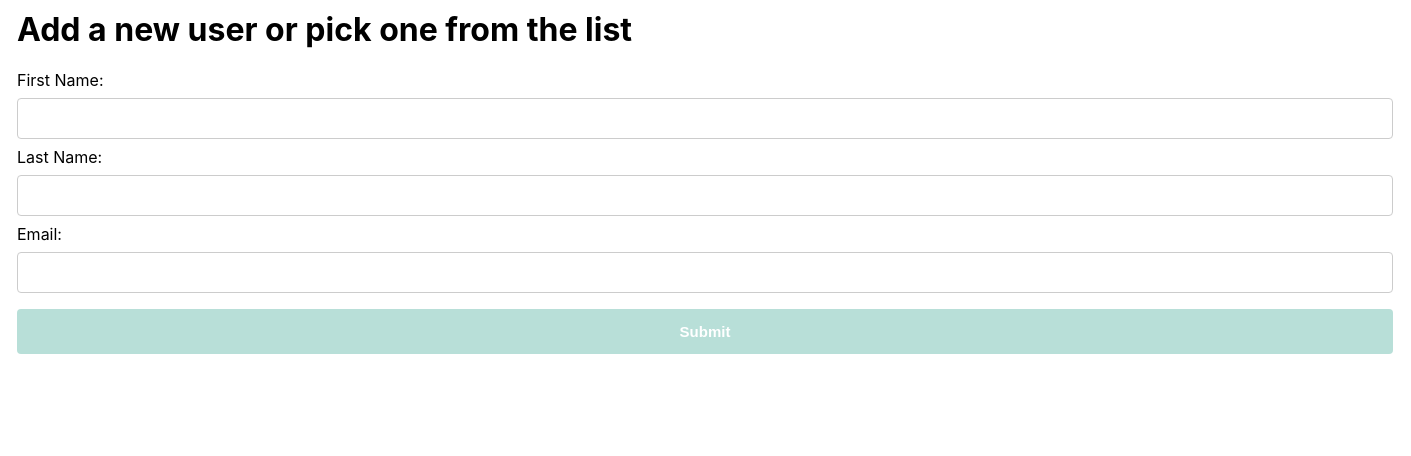
Test case: Inputs fields › given invalid data › should print 3 errors when all inputs are empty & clicked on submit
Click the button "Submit" at (705, 332), box [17,309,1393,354]
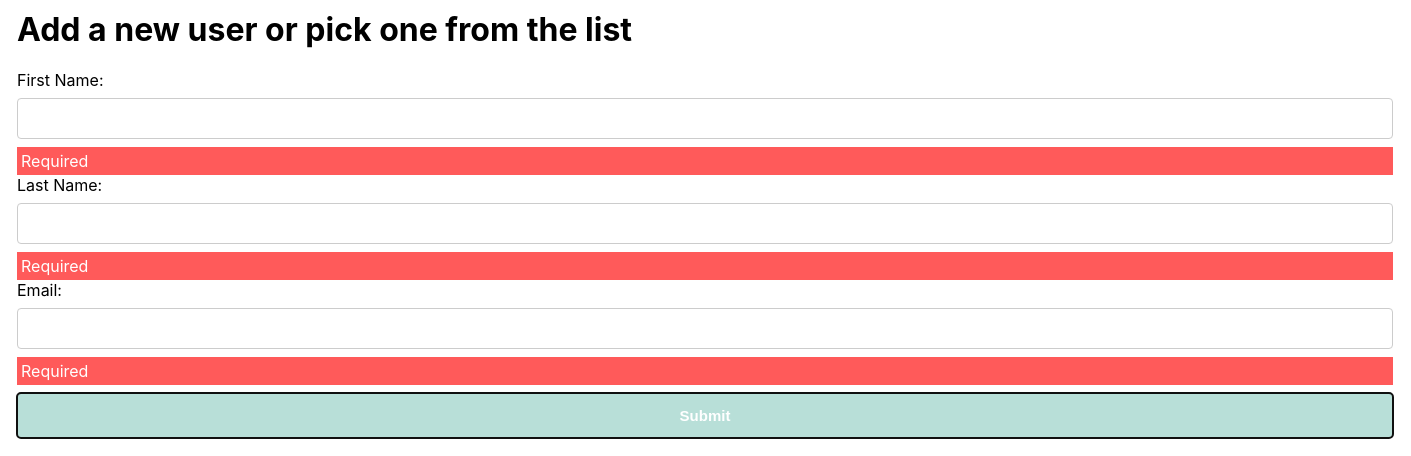
expect the text "Required" is shown 3 times: met, box [17,147,1393,175]; [17,252,1393,280]; [17,357,1393,385]
